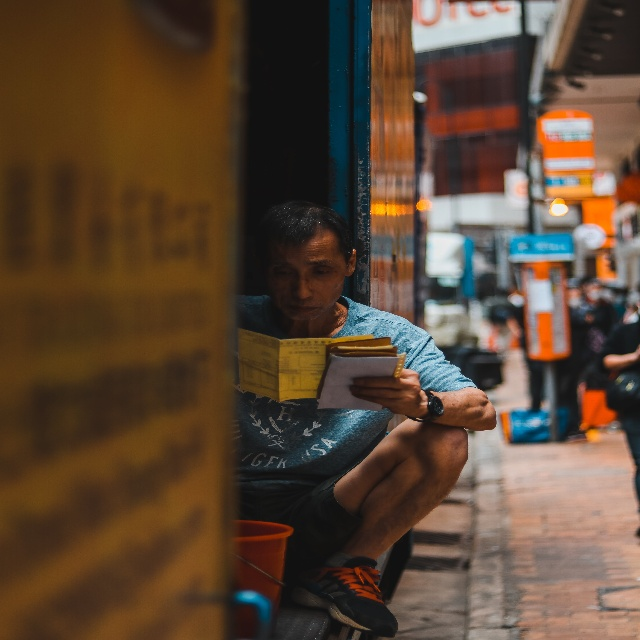Sin_guantes: (348, 363, 420, 418)
